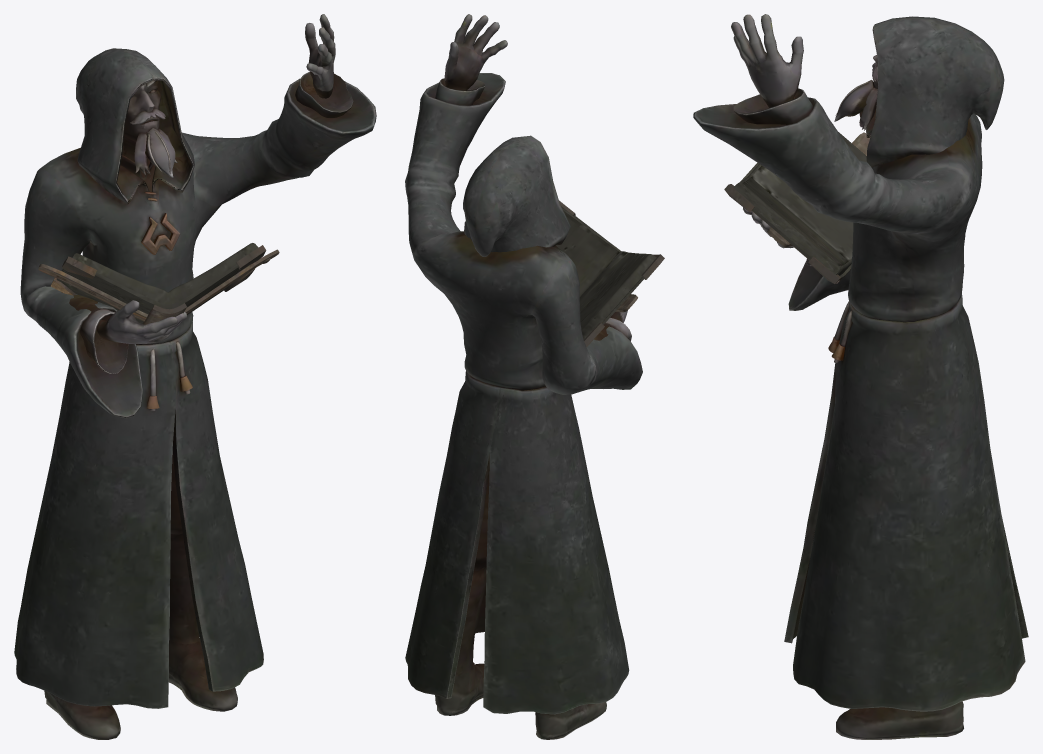
The picture shows the model from 3 angles, left to right: view 1: azimuth 30°, elevation 25°; view 2: azimuth 150°, elevation 25°; view 3: azimuth 270°, elevation 25°; orthographic projection. The views are drawn at different scales.
Parts seen in each view (by area): view 1: SM_DR_Statue_ZamorakAcolyte_A_02_LOD0; view 2: SM_DR_Statue_ZamorakAcolyte_A_02_LOD0; view 3: SM_DR_Statue_ZamorakAcolyte_A_02_LOD0.
Part boxes in pixels (x1,y1,x2,y2): SM_DR_Statue_ZamorakAcolyte_A_02_LOD0: (14, 14, 376, 739); SM_DR_Statue_ZamorakAcolyte_A_02_LOD0: (405, 14, 664, 739); SM_DR_Statue_ZamorakAcolyte_A_02_LOD0: (693, 14, 1028, 739).
Size of the model in its own units: 1.73 by 4.13 by 1.68.
Materials: 2 (2 with a texture image).
